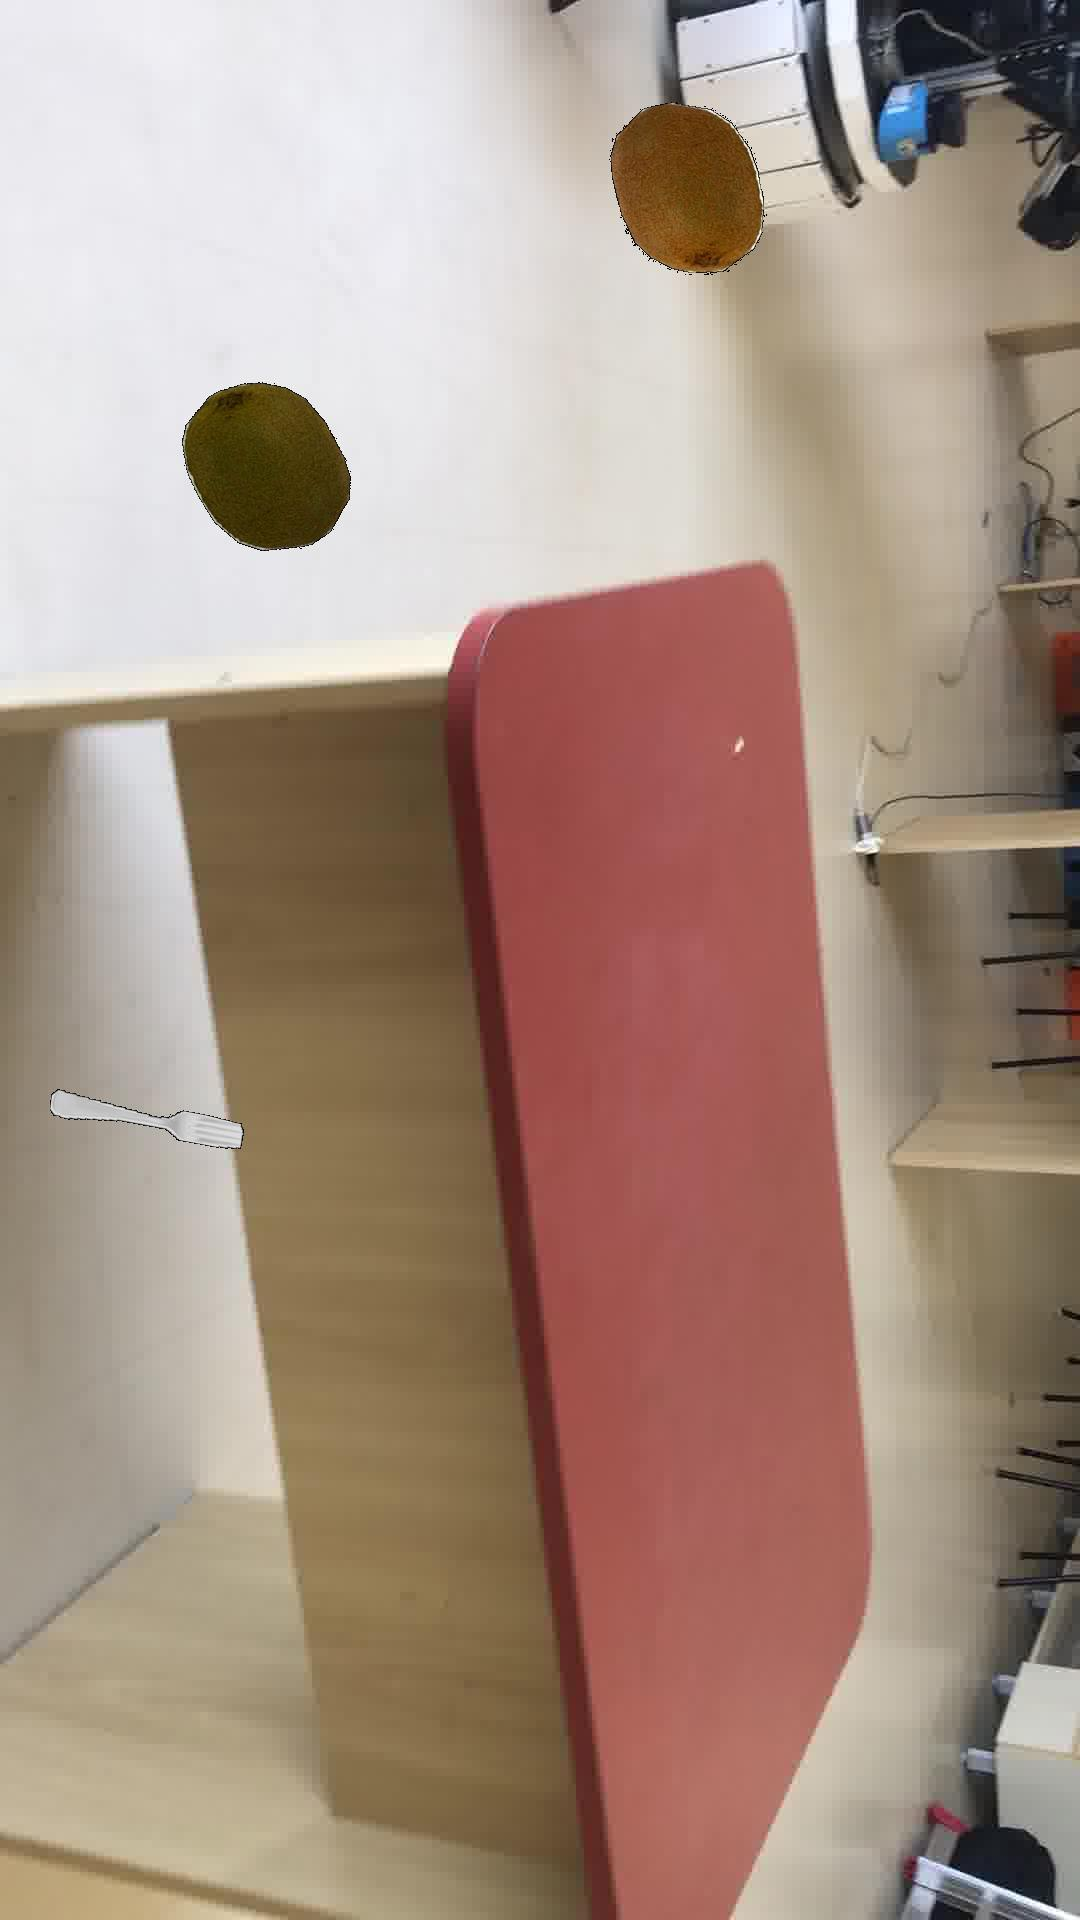fork: (49, 1088, 243, 1147)
kiwi: (181, 381, 349, 550), (608, 100, 764, 273)
